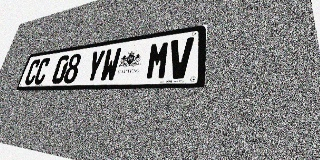0: (50, 55, 71, 84)
8: (62, 53, 83, 83)
C: (32, 57, 51, 85), (23, 59, 42, 85)
M: (145, 40, 171, 80)
V: (167, 37, 194, 79)
W: (99, 47, 122, 82)
Y: (84, 49, 106, 83)
